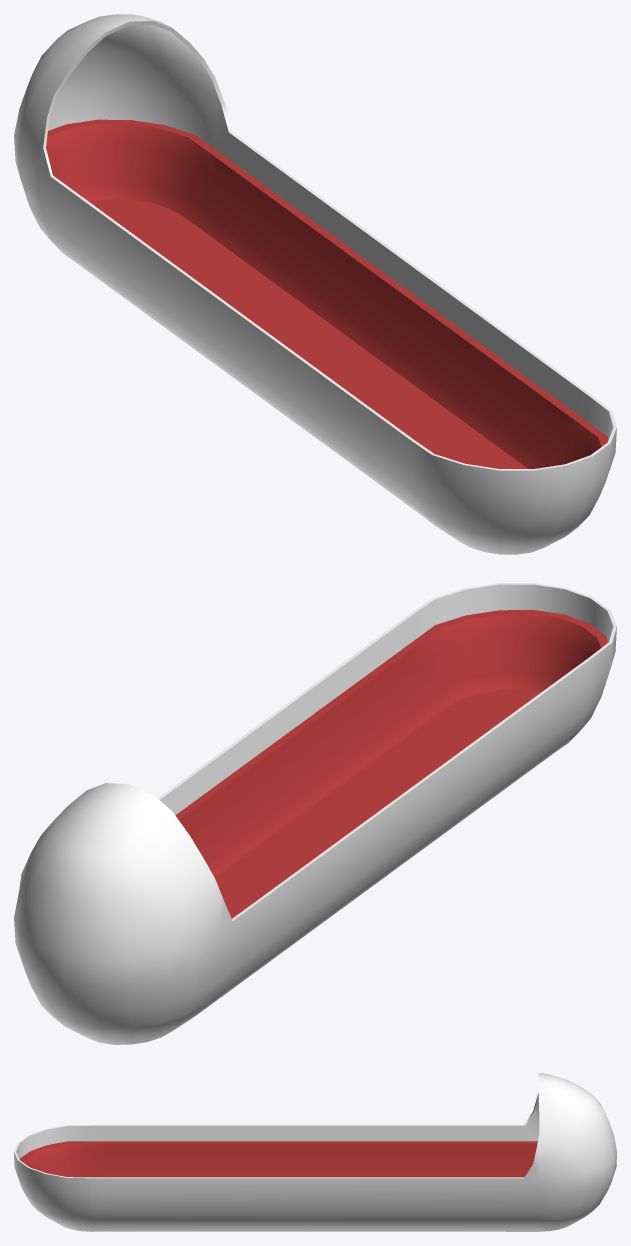
File: bed.fbx
3 renders of one model, top to bottom at view 1: azimuth 30°, elevation 25°; view 2: azimuth 150°, elevation 25°; view 3: azimuth 270°, elevation 25°, orthographic. The views are drawn at different scales.
Parts seen in each view (by area): view 1: bed:tukue:polySurface4; view 2: bed:tukue:polySurface4; view 3: bed:tukue:polySurface4.
Boxes of the visible parts, box(x1,y1,x2,y2) form: bed:tukue:polySurface4: box(14, 14, 616, 554); bed:tukue:polySurface4: box(14, 583, 616, 1044); bed:tukue:polySurface4: box(14, 1073, 616, 1231).
Size of the model in its own units: 25.41 by 33.1 by 121.
1 material, 1 textured.
